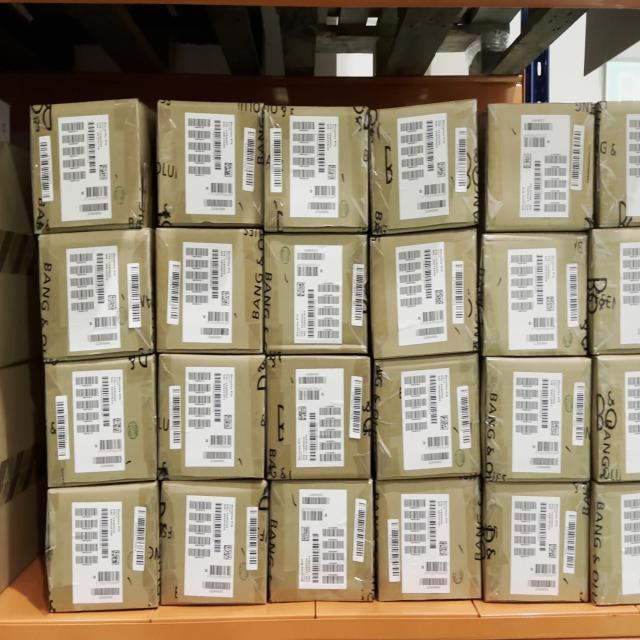box: (486, 108, 592, 230), (157, 228, 262, 350), (36, 102, 138, 226), (158, 356, 263, 475), (265, 106, 366, 228), (51, 490, 155, 608), (46, 364, 156, 475), (44, 230, 148, 347), (163, 484, 266, 602), (486, 483, 588, 601), (160, 103, 262, 221), (375, 479, 479, 594), (486, 358, 588, 475), (374, 108, 475, 226), (269, 357, 370, 474), (266, 234, 367, 349), (370, 240, 475, 350), (269, 482, 371, 595), (484, 236, 586, 348), (377, 362, 475, 476)
